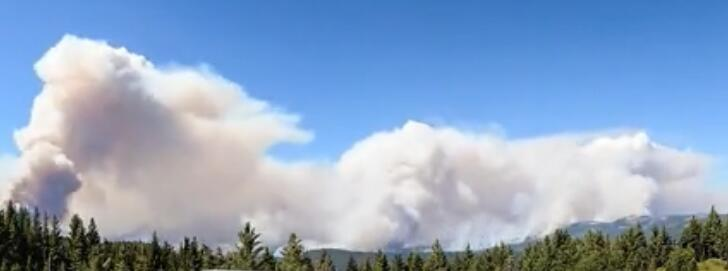yanwu: (13, 32, 720, 252)
